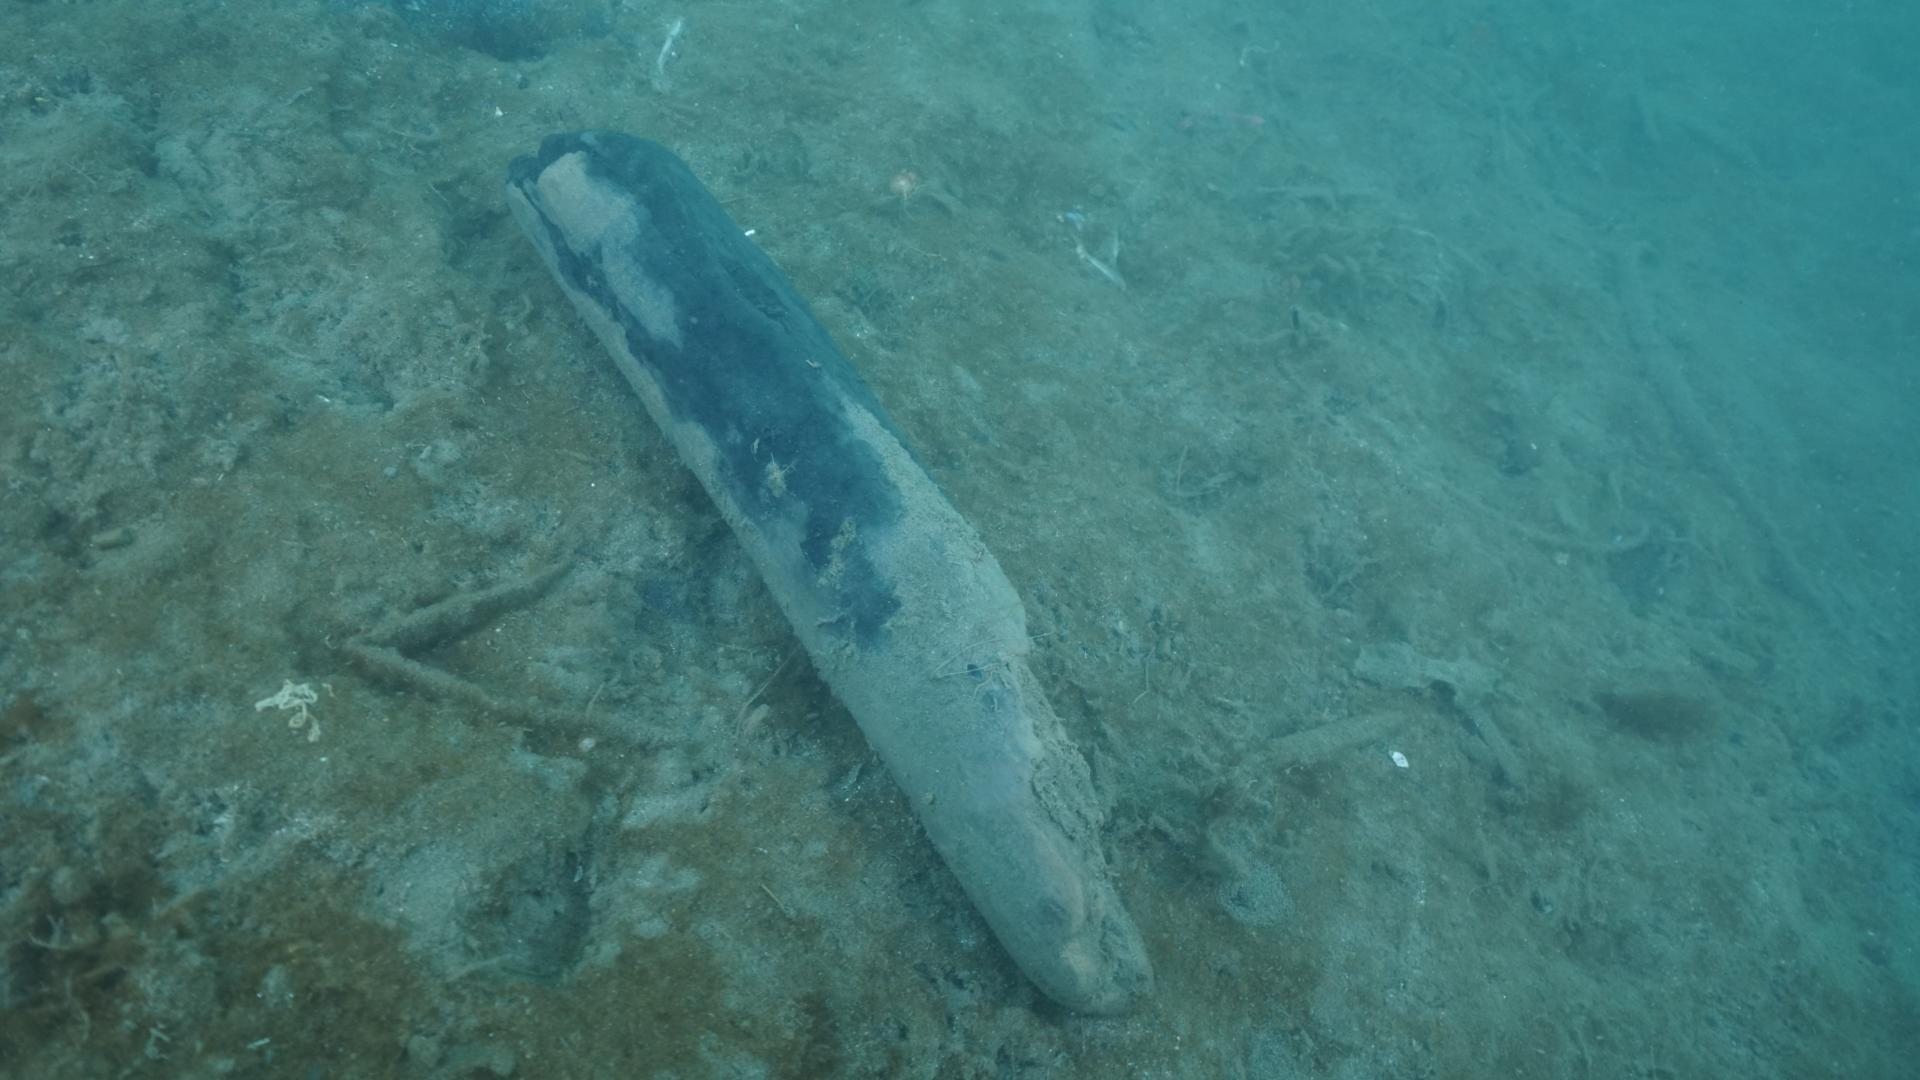wood: (496, 123, 1147, 1013)
